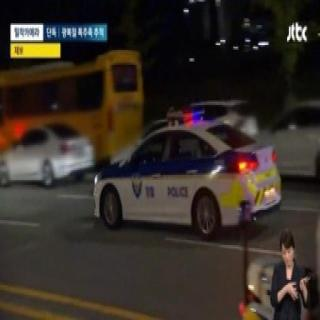Police_car: (92, 109, 283, 242)
